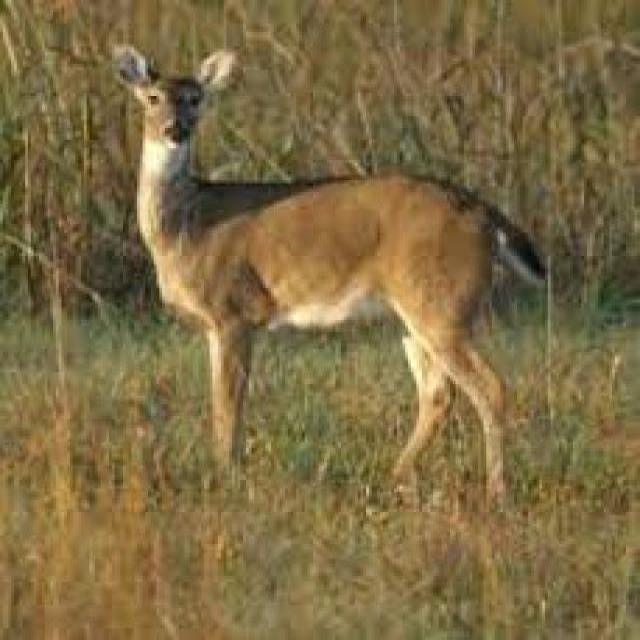deer: (103, 27, 555, 497)
